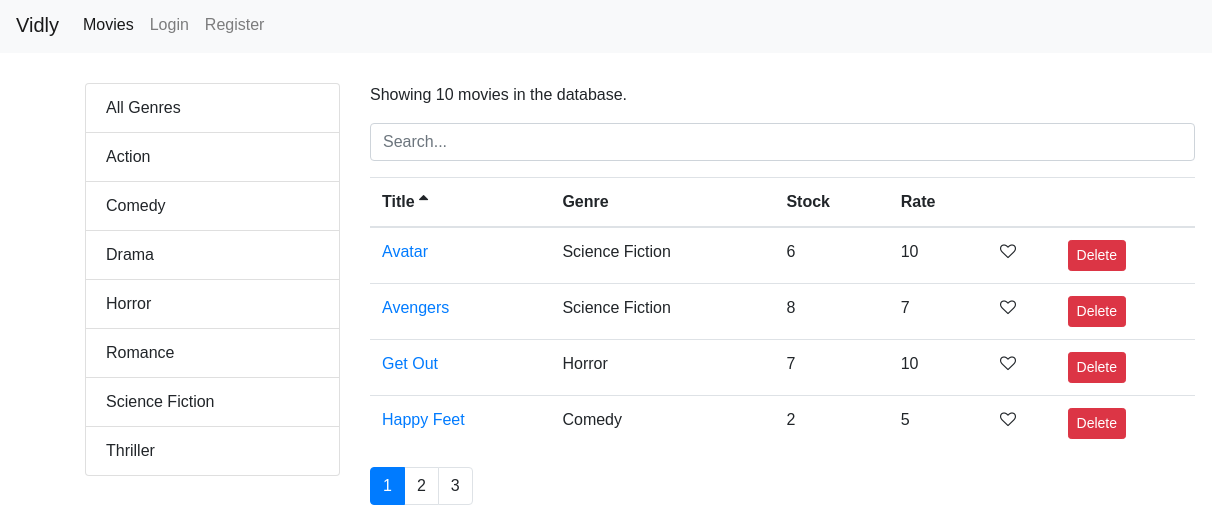
Test: A non registered user interacting with the homepage › redirects user to register form when 'register' is clicked through the navbar
The width and height of the screenshot is (1212, 522).
Click the link with test id "navbar-register-link" at (235, 25), box left=205, top=16, right=265, bottom=33
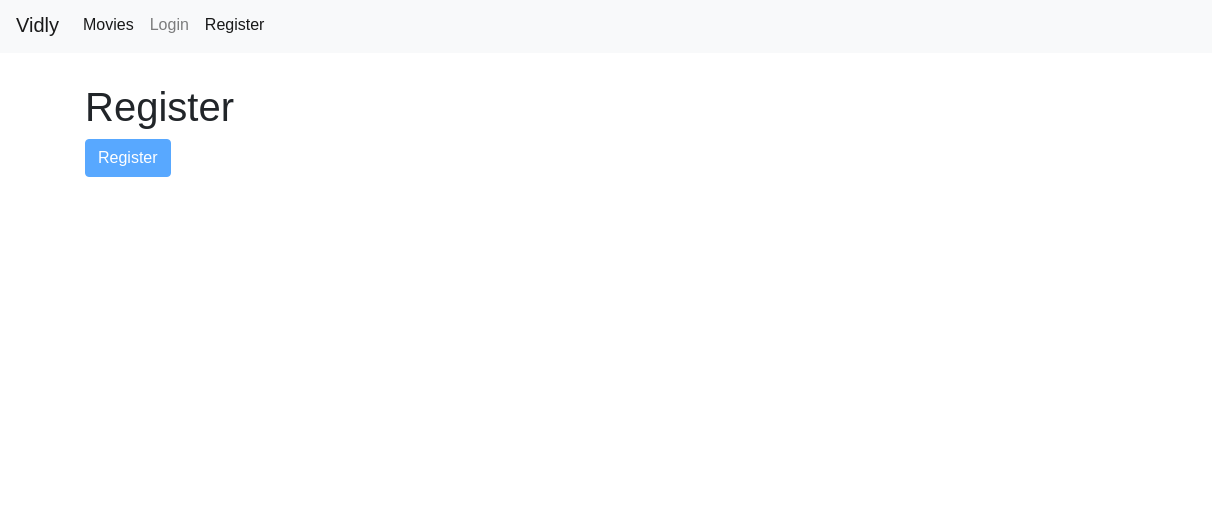
Expected: the heading with test id "register-header" reads "Register", left=85, top=85, right=234, bottom=129
